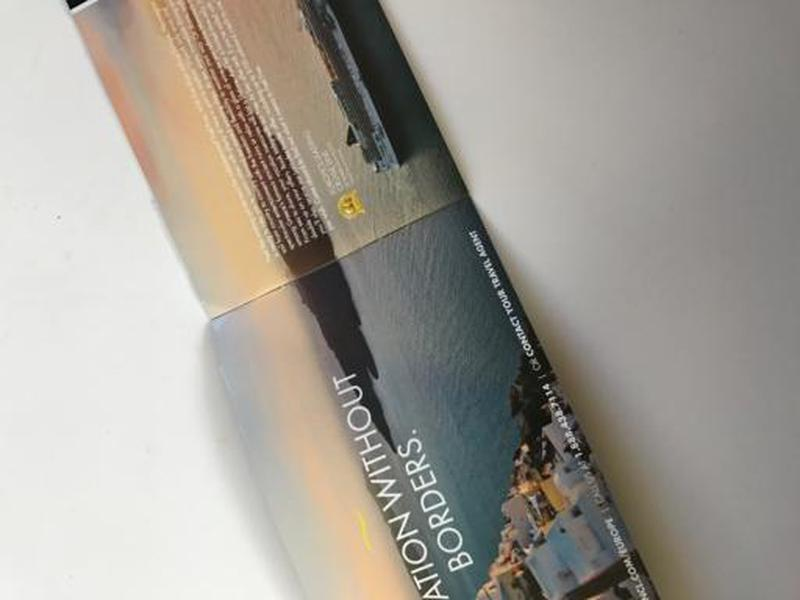paper: (58, 1, 667, 600)
